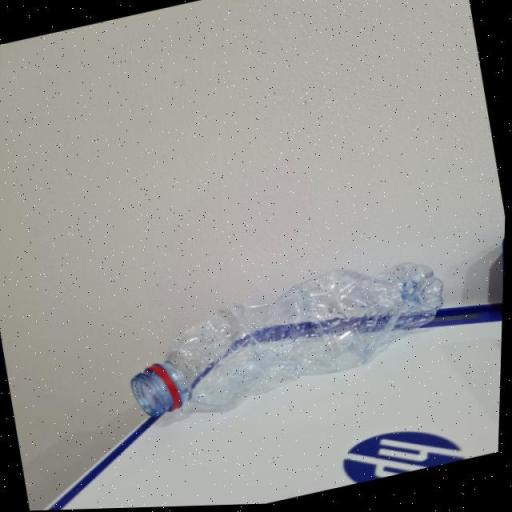plastic: (98, 248, 474, 428)
